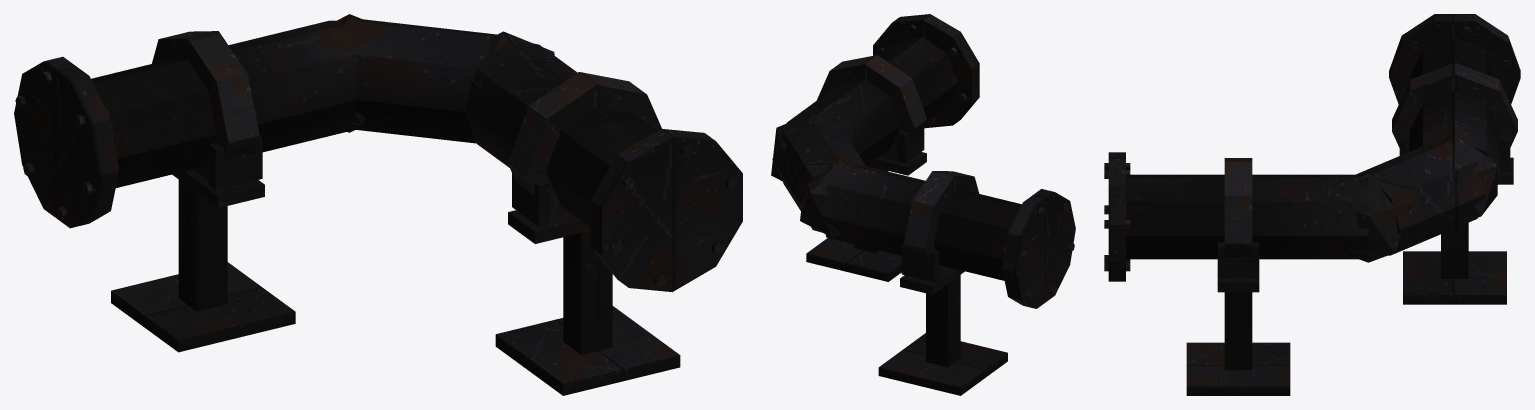
Rendered from pipe_elbow.glb.
The picture shows the model from 3 angles, left to right: view 1: azimuth 30°, elevation 25°; view 2: azimuth 150°, elevation 25°; view 3: azimuth 270°, elevation 25°; orthographic projection. The views are drawn at different scales.
Parts seen in each view (by area): view 1: body; view 2: body; view 3: body.
Part boxes in pixels (x1,y1,x2,y2): body: (14, 14, 742, 395); body: (771, 14, 1075, 395); body: (1104, 14, 1520, 395).
Size of what is drawn, in the model's own units: 1.19 by 0.69 by 1.2.
Materials: 2 (2 with a texture image).
